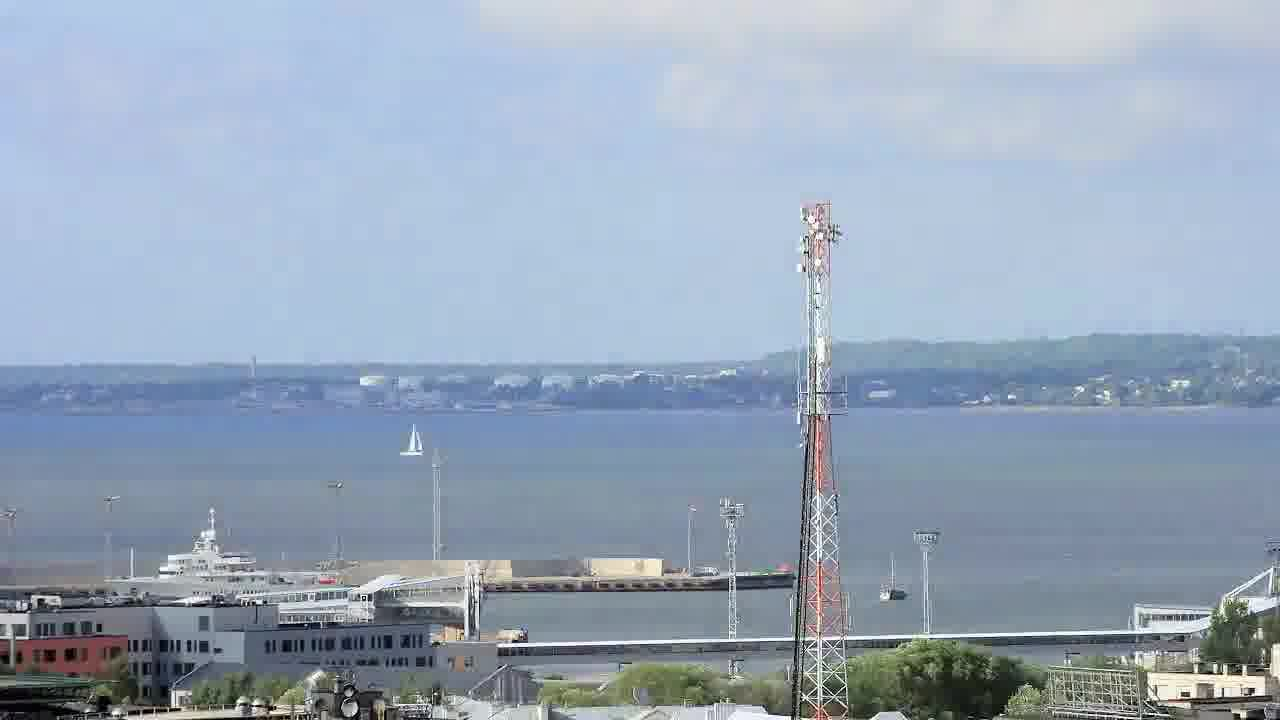type-0: (869, 569, 921, 618)
type-2: (392, 414, 439, 464)
type-3: (98, 503, 361, 603)
